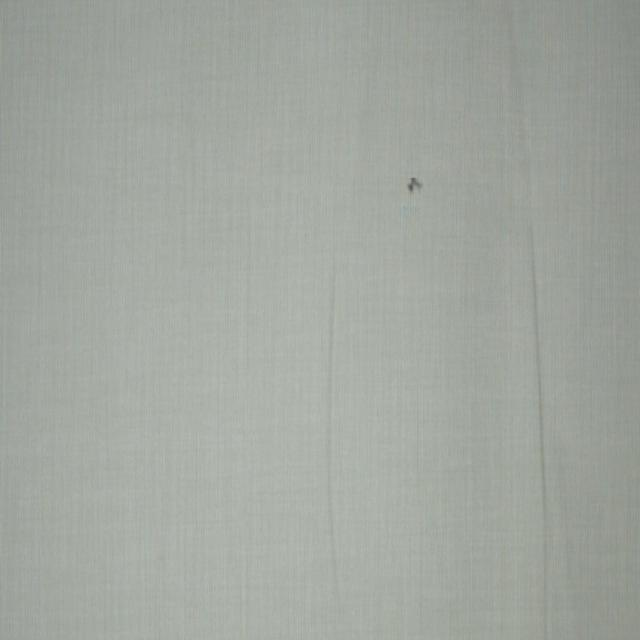dirty: (407, 178, 424, 193)
